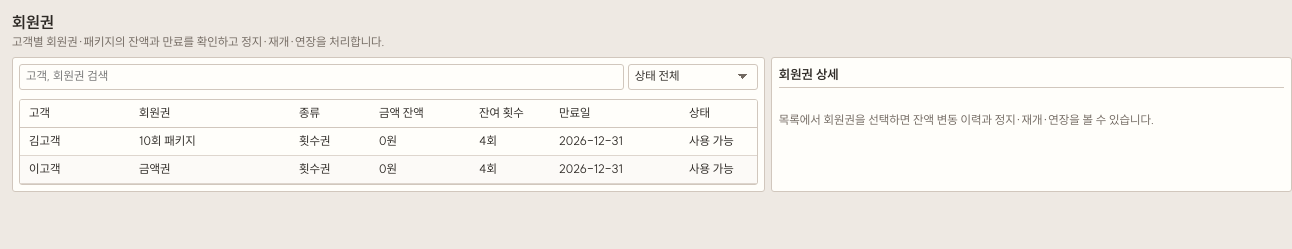
Test: WAL-10 지갑 목록 › 검색은 고객과 회원권 이름에 적용한다
Expected: the text "이고객" is shown, [20,156,130,184]
Type "금액" into the field labelled "회원권 검색" at {"x": 321, "y": 77}, box [19,64,624,90]
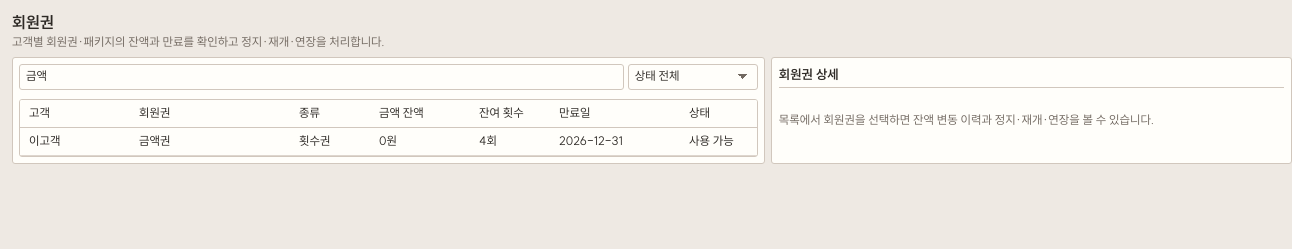
Result: the text "김고객" is gone
Replace the text in the field named "회원권 검색" with "없는이름" at {"x": 321, "y": 77}, box [19,64,624,90]
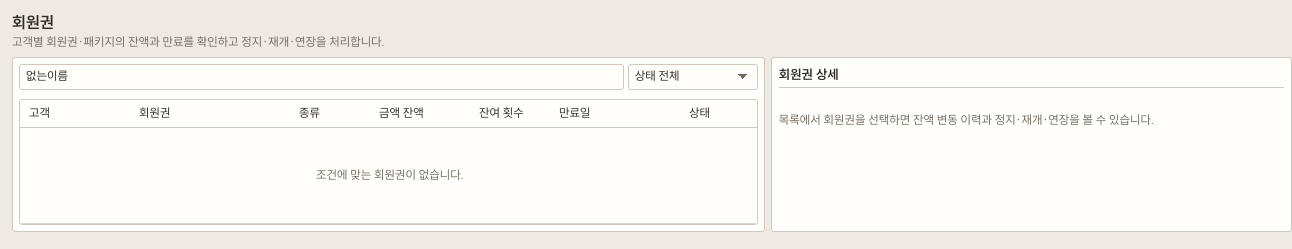
Result: the text "조건에 맞는 회원권이 없습니다." is shown at [20,128,758,224]
